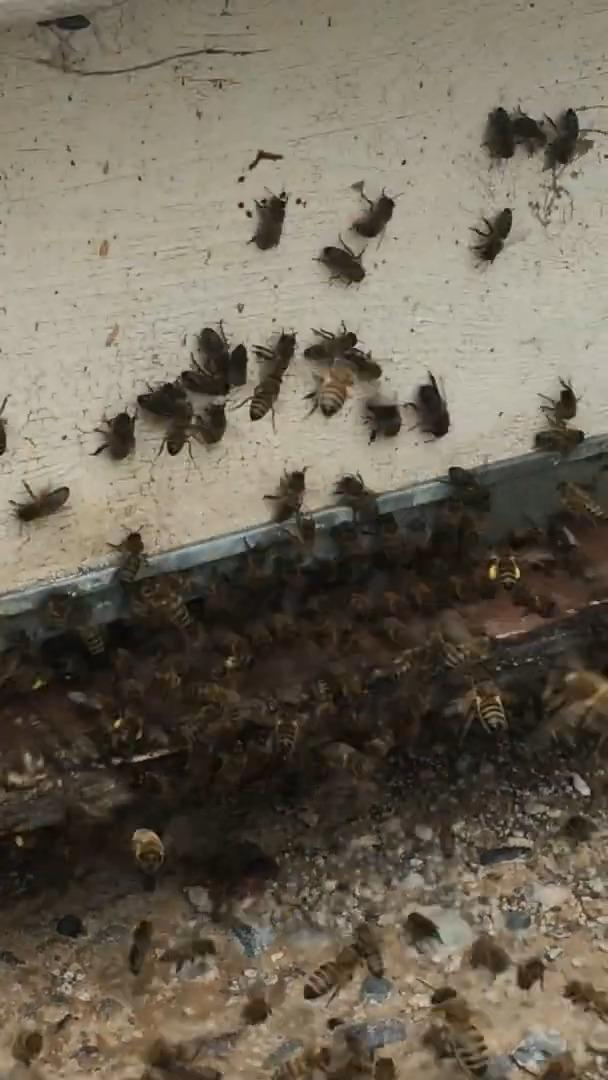worker-bee: (235, 332, 296, 431), (434, 995, 488, 1079), (303, 944, 360, 1002), (132, 577, 191, 631), (406, 370, 449, 437), (459, 679, 507, 739), (433, 624, 490, 669), (10, 480, 69, 523), (304, 366, 353, 417), (264, 467, 306, 522), (317, 236, 365, 284), (249, 192, 288, 250), (333, 473, 378, 523), (90, 411, 135, 460), (472, 208, 512, 262), (557, 481, 607, 523), (109, 532, 146, 588), (353, 188, 394, 238), (131, 828, 164, 890), (158, 399, 193, 456), (137, 380, 187, 419), (539, 378, 577, 423), (534, 422, 584, 455), (188, 402, 226, 445), (486, 554, 520, 590)
